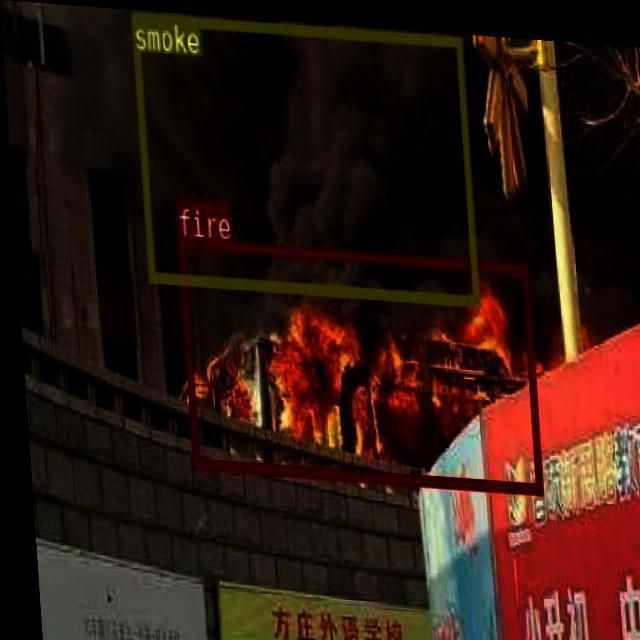Fire: (167, 272, 570, 452)
Smoke: (45, 2, 640, 346)
